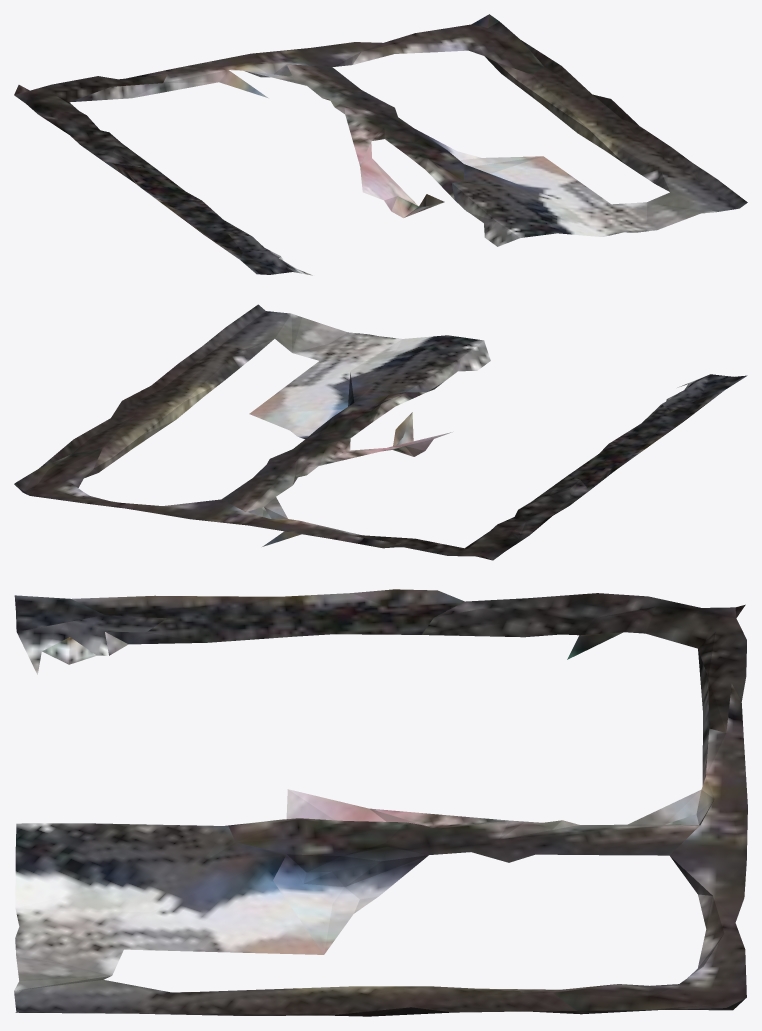
Rendered from meshes_1-dynamic - BLK2GO-3630355-Scan 080 37.obj.
3 views of the same model, one above another, from view 1: azimuth 30°, elevation 25°; view 2: azimuth 150°, elevation 25°; view 3: azimuth 270°, elevation 25° (orthographic). The views are drawn at different scales.
Visible parts, largest first — view 1: 1-dynamic_-_BLK2GO-3630355-Scan_080_37_0; view 2: 1-dynamic_-_BLK2GO-3630355-Scan_080_37_0; view 3: 1-dynamic_-_BLK2GO-3630355-Scan_080_37_0.
Boxes of the visible parts, x1,y1,x2,y2 form: 1-dynamic_-_BLK2GO-3630355-Scan_080_37_0: (14, 14, 747, 275); 1-dynamic_-_BLK2GO-3630355-Scan_080_37_0: (14, 304, 747, 560); 1-dynamic_-_BLK2GO-3630355-Scan_080_37_0: (14, 589, 747, 1016).
Size of the model in its own units: 1.89 by 0.2822 by 1.69.
Materials: 1 (1 with a texture image).
